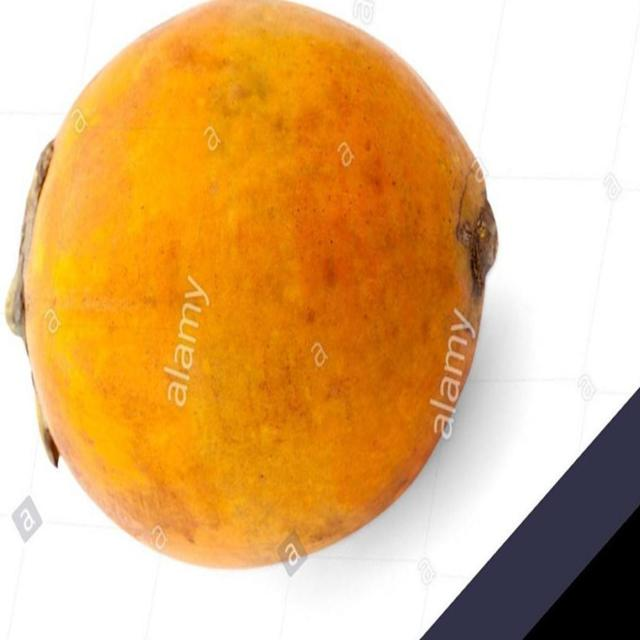good: (6, 0, 499, 573)
